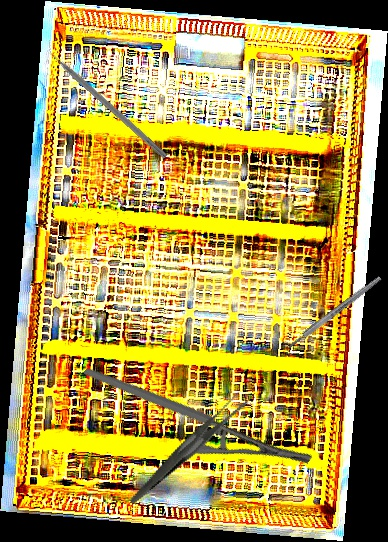Chopper: (41, 37, 174, 160)
Dressing Forceps: (107, 389, 268, 505)
Needle Holder: (82, 305, 315, 524)
Scalpel Handle: (286, 275, 383, 350)
